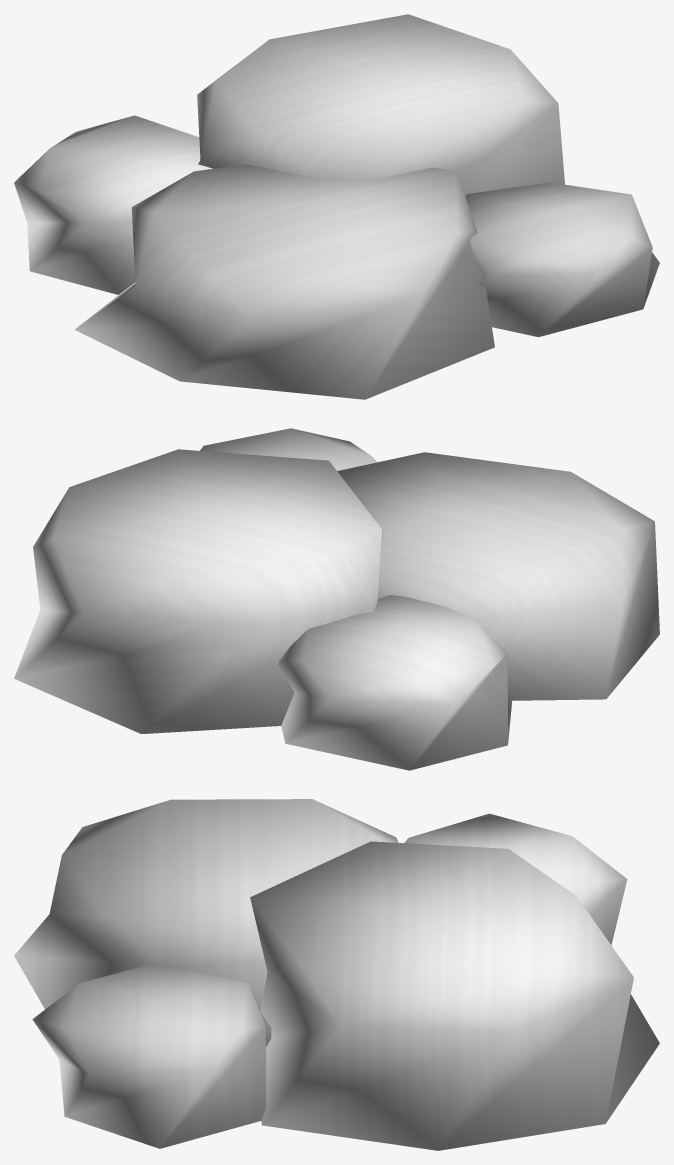
File: item_rm_steel_c.obj
3 renders of one model, top to bottom at view 1: azimuth 30°, elevation 25°; view 2: azimuth 150°, elevation 25°; view 3: azimuth 270°, elevation 25°, orthographic. The views are drawn at different scales.
Visible parts, largest first — view 1: item_rm_steel_c_component_01, item_rm_steel_c_component_02, item_rm_steel_c_component_03, item_rm_steel_c_component_04; view 2: item_rm_steel_c_component_02, item_rm_steel_c_component_01, item_rm_steel_c_component_04, item_rm_steel_c_component_03; view 3: item_rm_steel_c_component_02, item_rm_steel_c_component_01, item_rm_steel_c_component_03, item_rm_steel_c_component_04.
Boxes of the visible parts, <box> form: item_rm_steel_c_component_01: <box>74,164,494,399</box>; item_rm_steel_c_component_02: <box>197,14,564,196</box>; item_rm_steel_c_component_03: <box>465,182,659,337</box>; item_rm_steel_c_component_04: <box>14,115,212,294</box>; item_rm_steel_c_component_02: <box>14,449,382,733</box>; item_rm_steel_c_component_01: <box>337,452,659,700</box>; item_rm_steel_c_component_04: <box>278,595,512,770</box>; item_rm_steel_c_component_03: <box>200,428,376,470</box>; item_rm_steel_c_component_02: <box>250,841,659,1150</box>; item_rm_steel_c_component_01: <box>14,799,398,1046</box>; item_rm_steel_c_component_03: <box>32,964,265,1148</box>; item_rm_steel_c_component_04: <box>404,813,627,945</box>.
Size of the model in its own units: 0.8704 by 0.2242 by 0.8691.
